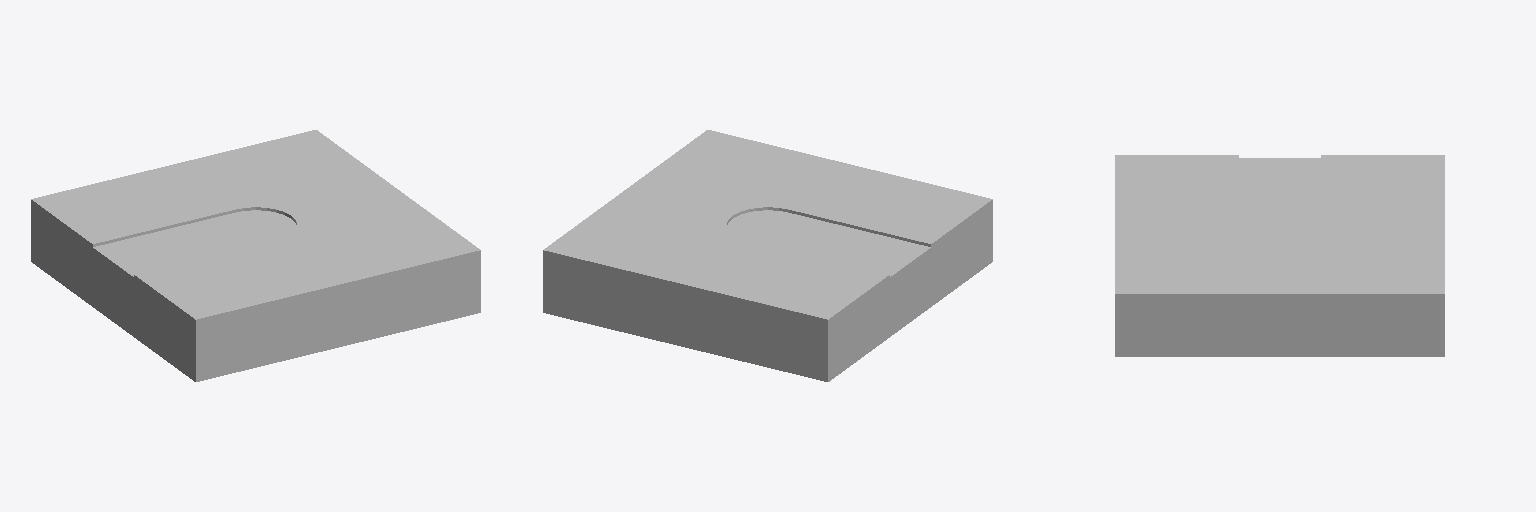
The model's file is tile050.obj.
3 renders of one model, left to right at view 1: azimuth 30°, elevation 25°; view 2: azimuth 150°, elevation 25°; view 3: azimuth 270°, elevation 25°, orthographic.
Parts seen in each view (by area): view 1: tile050; view 2: tile050; view 3: tile050.
Part boxes in pixels (x1,y1,x2,y2): tile050: (31,130,480,381); tile050: (543,130,992,381); tile050: (1115,155,1444,356).
Bounding box in the file's own units: 1 × 0.21 × 1.